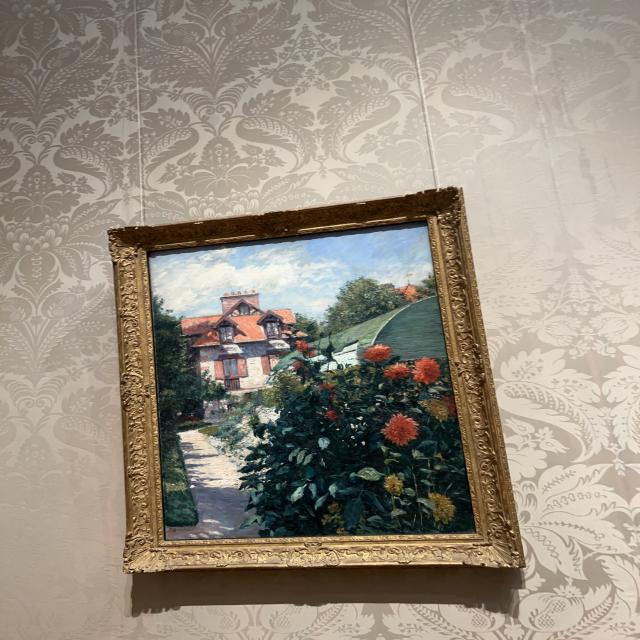summer: (150, 226, 474, 534)
